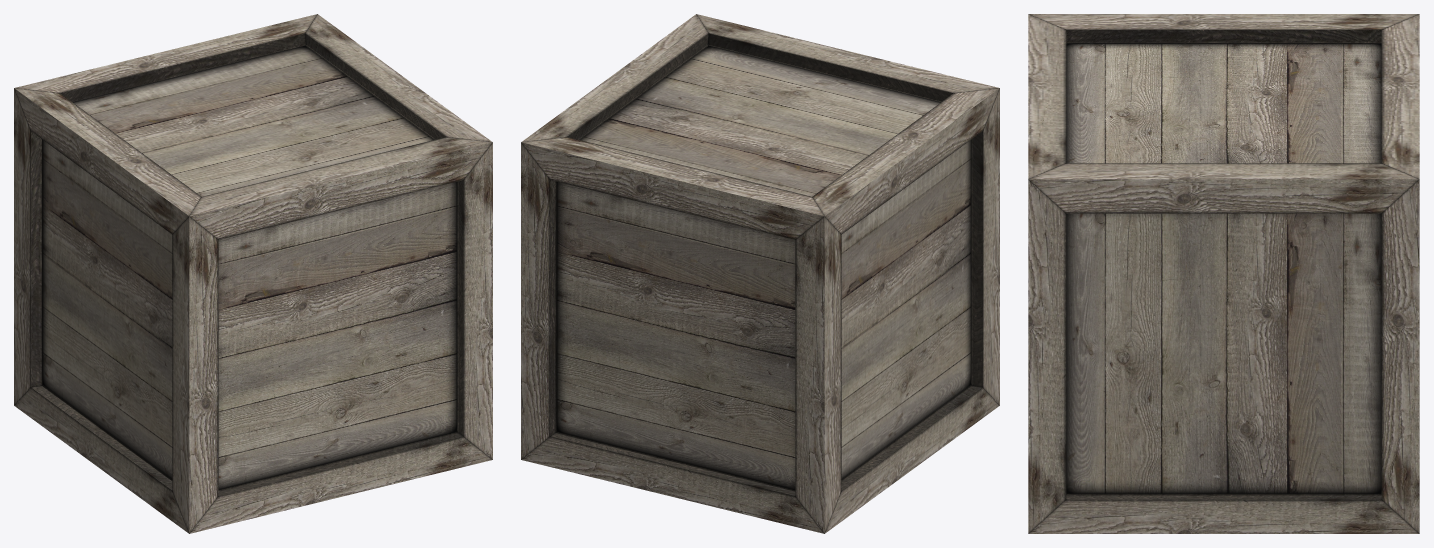
The model's file is Crate_LOD1.obj.
The picture shows the model from 3 angles, left to right: view 1: azimuth 30°, elevation 25°; view 2: azimuth 150°, elevation 25°; view 3: azimuth 270°, elevation 25°; orthographic projection. The views are drawn at different scales.
Parts seen in each view (by area): view 1: Crate_LOD2; view 2: Crate_LOD2; view 3: Crate_LOD2.
Boxes of the visible parts, x1=… form: Crate_LOD2: x1=14, y1=14, x2=492, y2=533; Crate_LOD2: x1=521, y1=14, x2=999, y2=533; Crate_LOD2: x1=1028, y1=14, x2=1419, y2=533.
Size of the model in its own units: 0.599 by 0.599 by 0.599.
